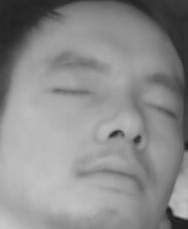blink: (46, 80, 95, 104), (143, 95, 180, 122)
mouth: (76, 149, 148, 199)
